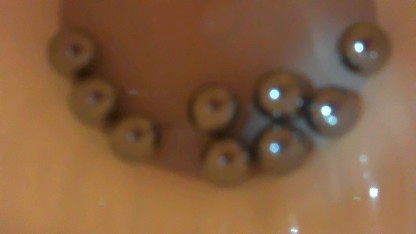ironball: (247, 59, 309, 112), (42, 29, 108, 76), (106, 115, 168, 164), (259, 130, 320, 174), (186, 86, 243, 130), (334, 19, 384, 67), (204, 141, 254, 186), (63, 84, 123, 120), (312, 86, 358, 131)
